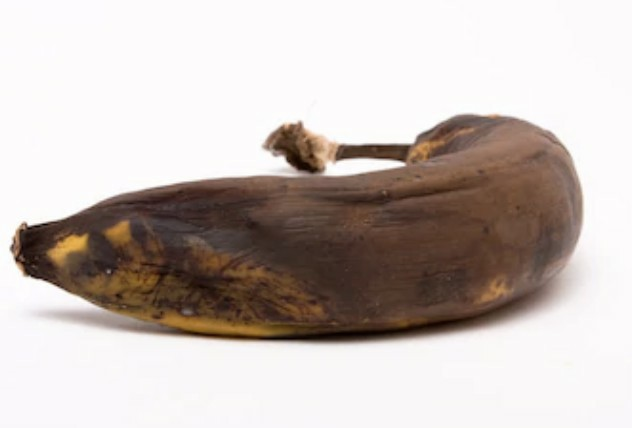rotten_banana: (17, 113, 582, 342)
